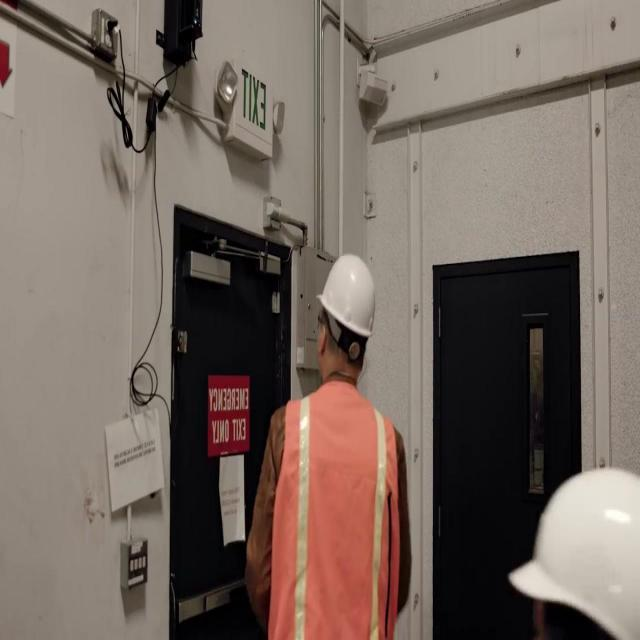reflective_jacket: (232, 381, 420, 639)
safety_helmet: (502, 450, 637, 639), (309, 239, 386, 353)
